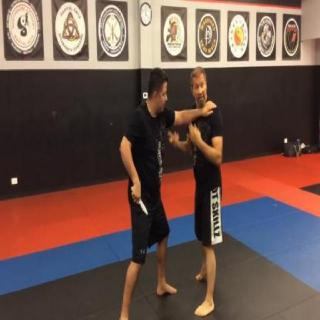knife: (129, 180, 149, 218)
